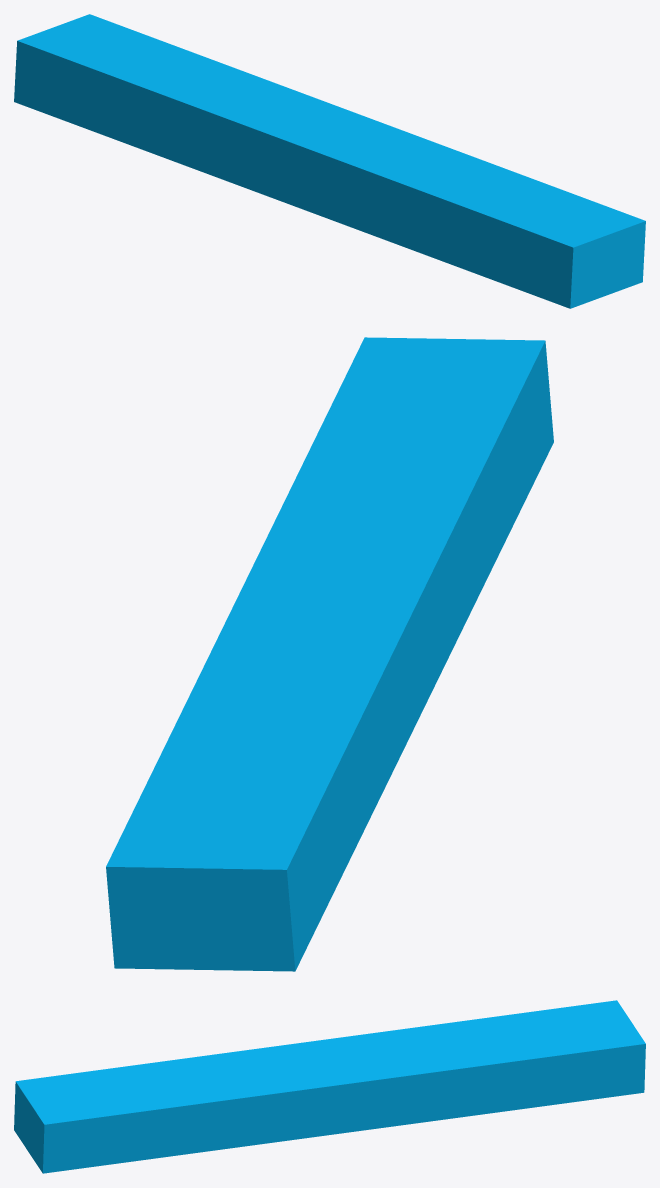
The model's file is Face winch chains Collsion.fbx.
3 views of the same model, one above another, from view 1: azimuth 30°, elevation 25°; view 2: azimuth 150°, elevation 25°; view 3: azimuth 270°, elevation 25° (orthographic). The views are drawn at different scales.
Parts seen in each view (by area): view 1: UBX_Chain Links.007; view 2: UBX_Chain Links.007; view 3: UBX_Chain Links.007.
Boxes of the visible parts, x1,y1,x2,y2 form: UBX_Chain Links.007: (14, 14, 645, 308); UBX_Chain Links.007: (106, 337, 553, 971); UBX_Chain Links.007: (14, 1000, 645, 1173).
Size of the model in its own units: 280 by 63.62 by 610.
